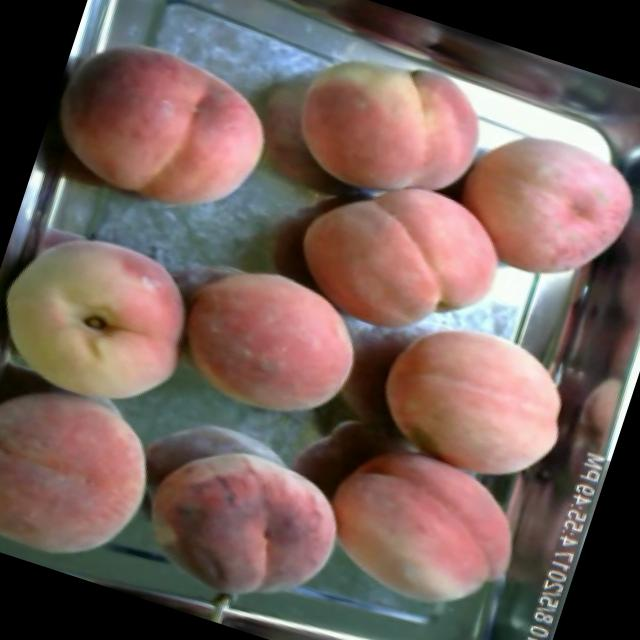Fruit: (102, 402, 373, 640), (32, 11, 296, 246), (271, 142, 529, 366), (264, 18, 514, 240), (144, 229, 386, 451), (0, 197, 230, 429), (303, 426, 541, 634), (358, 293, 596, 500), (0, 355, 191, 596), (433, 97, 640, 308)
